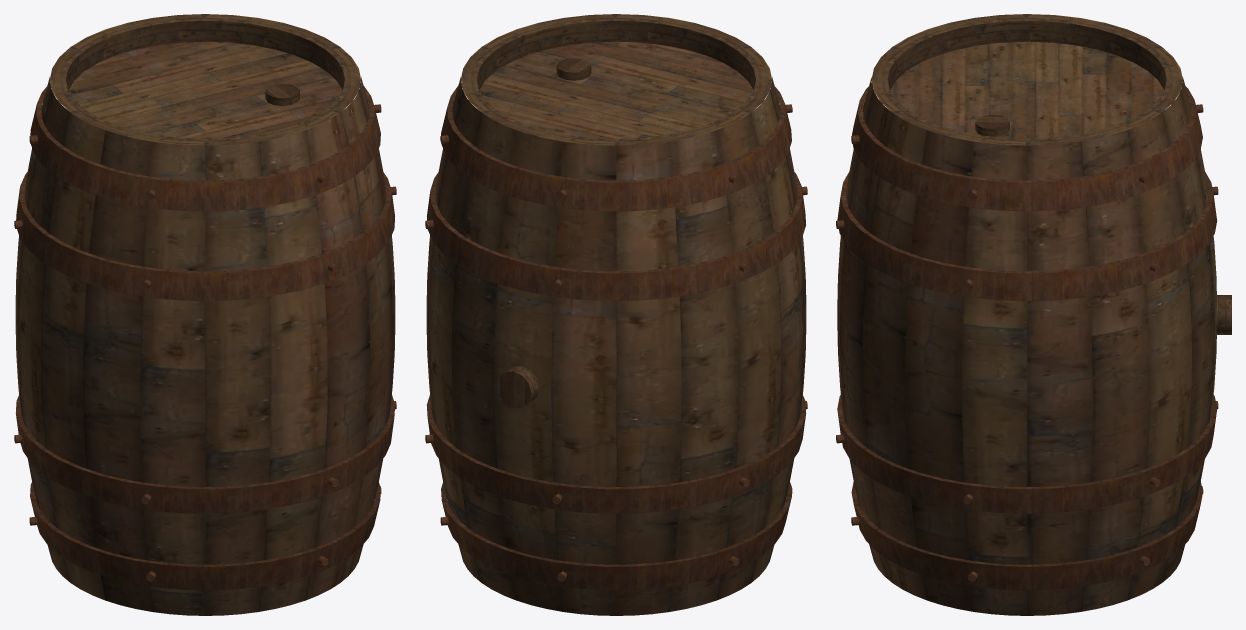
The model's file is prop_barrel.glb.
3 views of the same model, side by side, from view 1: azimuth 30°, elevation 25°; view 2: azimuth 150°, elevation 25°; view 3: azimuth 270°, elevation 25° (orthographic).
Parts seen in each view (by area): view 1: prop; view 2: prop; view 3: prop.
Part boxes in pixels (box(x1,y1,x2,y2)): prop: box(14, 14, 396, 615); prop: box(425, 14, 807, 615); prop: box(836, 14, 1231, 615).
Bounding box in the file's own units: 0.66 × 0.9 × 0.6866.
3 materials, 3 textured.
